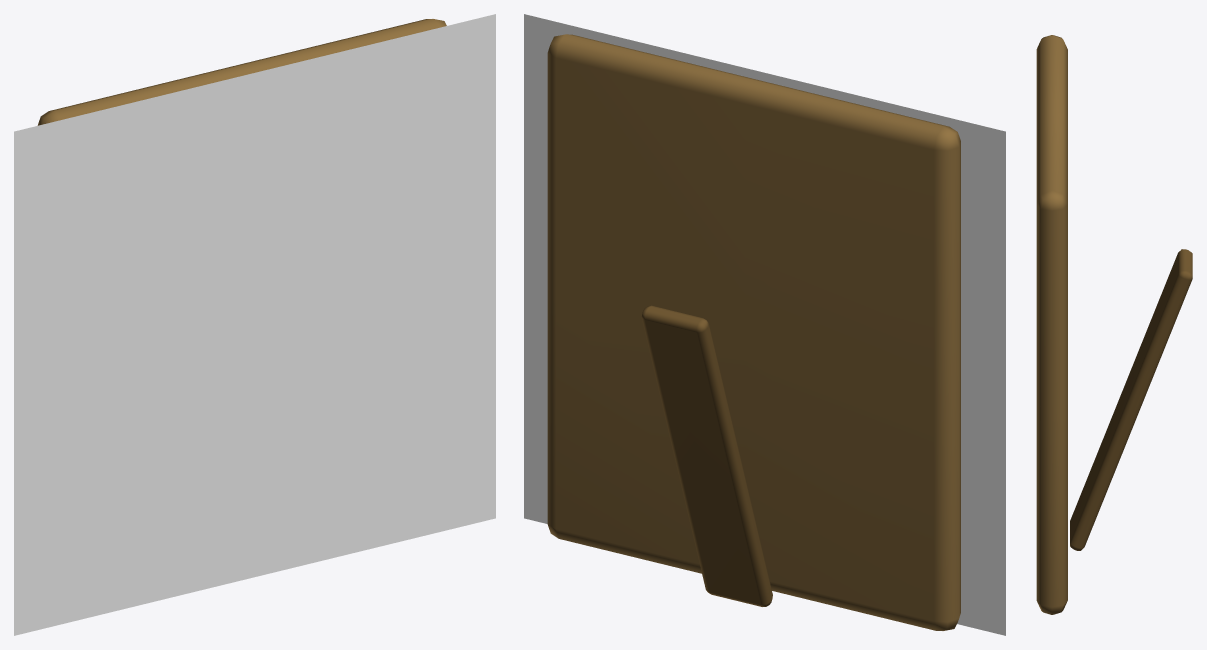
The model's file is furn_photo_frame.glb.
The picture shows the model from 3 angles, left to right: view 1: azimuth 30°, elevation 25°; view 2: azimuth 150°, elevation 25°; view 3: azimuth 270°, elevation 25°; orthographic projection. The views are drawn at different scales.
Visible parts, largest first — view 1: furn_photo_frame_pic, furn_photo_frame_main; view 2: furn_photo_frame_main, furn_photo_frame_pic; view 3: furn_photo_frame_main.
Boxes of the visible parts, <box> form: furn_photo_frame_pic: <box>14,14,495,635</box>; furn_photo_frame_main: <box>37,19,446,125</box>; furn_photo_frame_main: <box>547,34,960,630</box>; furn_photo_frame_pic: <box>524,14,1005,635</box>; furn_photo_frame_main: <box>1036,35,1192,614</box>.
Bounding box in the file's own units: 0.6 × 0.6041 × 0.2031.
